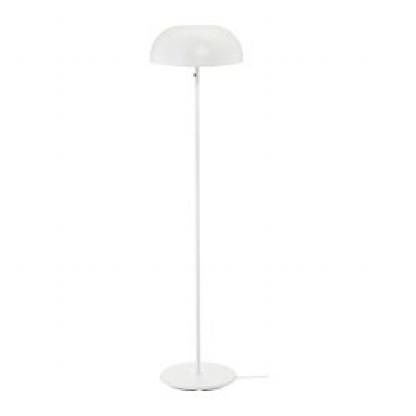Lamp: (140, 17, 246, 402)
